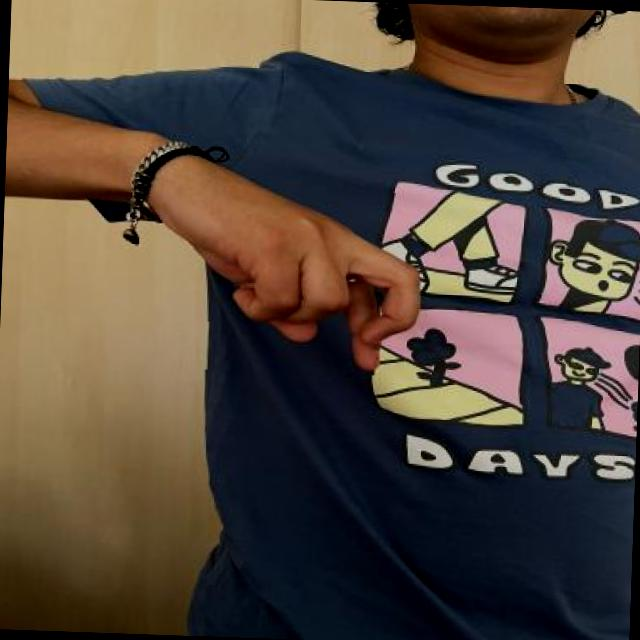P: (123, 115, 440, 377)
